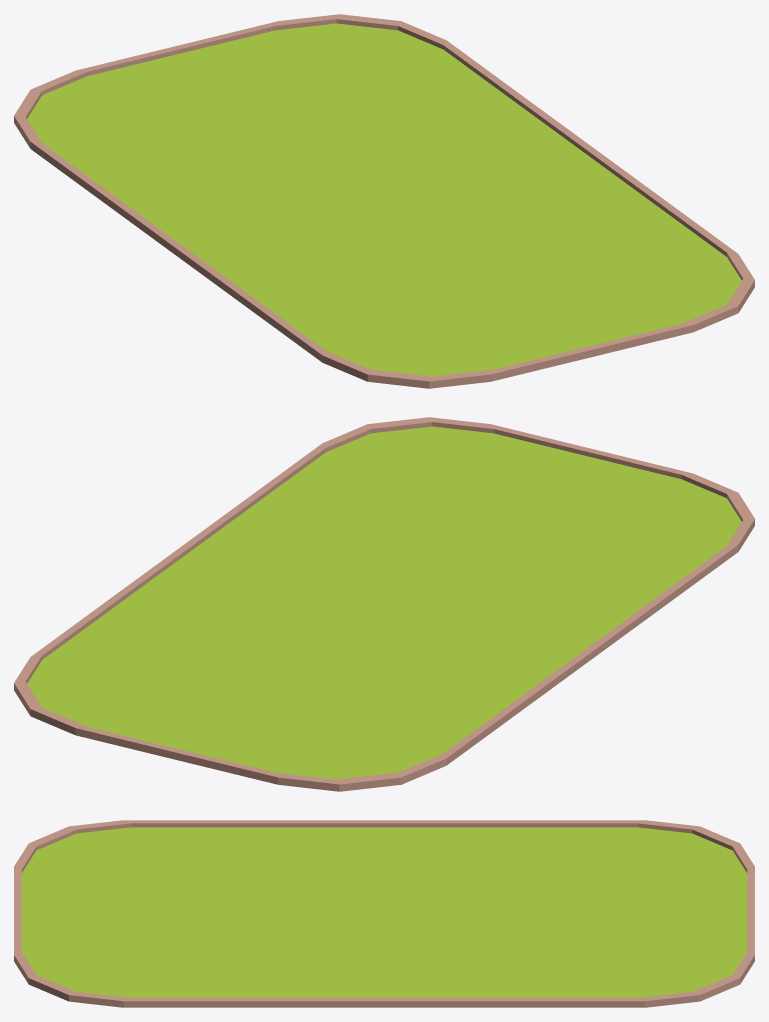
The model's file is ParkLarge.fbx.
3 renders of one model, top to bottom at view 1: azimuth 30°, elevation 25°; view 2: azimuth 150°, elevation 25°; view 3: azimuth 270°, elevation 25°, orthographic. The views are drawn at different scales.
Visible parts, largest first — view 1: park_large; view 2: park_large; view 3: park_large.
Part boxes in pixels (x1,y1,x2,y2): park_large: (14, 14, 754, 388); park_large: (14, 417, 754, 791); park_large: (14, 820, 754, 1007).
Size of the model in its own units: 4882 by 81.94 by 8442.
